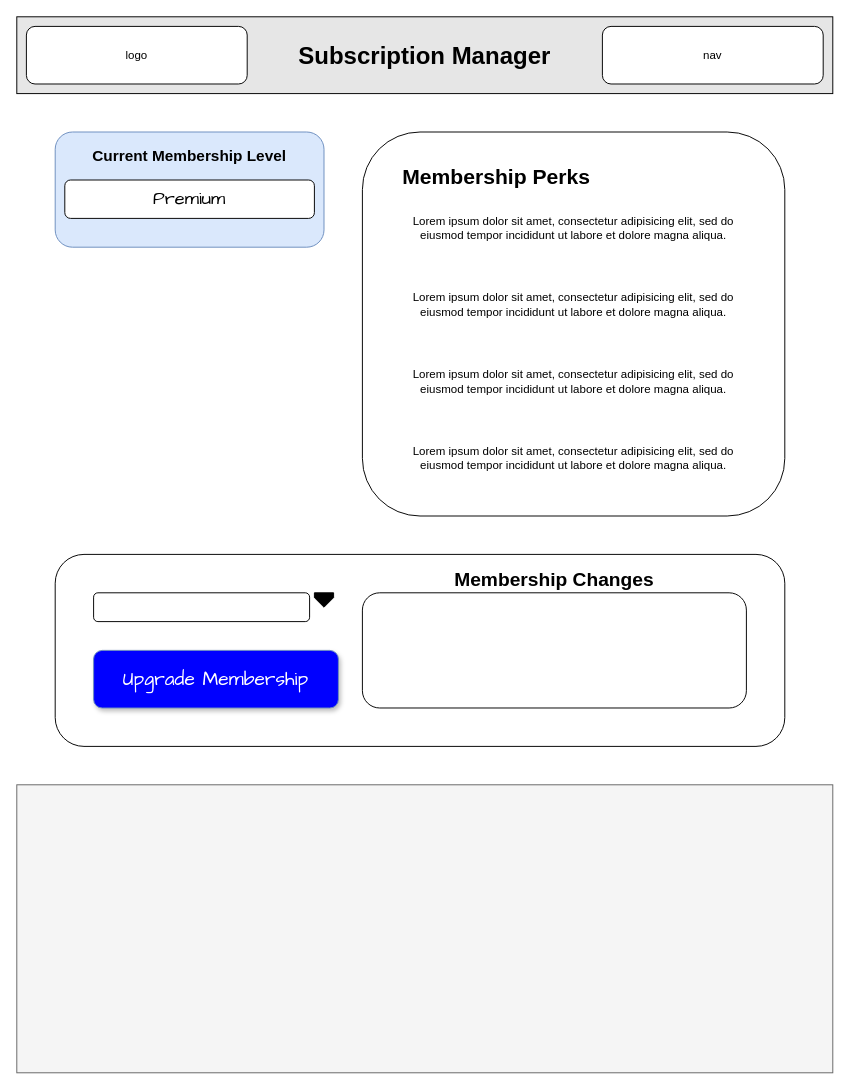
This 850x1090 diagram has some shape labels left out. The shapes that lost their labels are listed below. From the top down, each one's centre as x and y in pixels, then its label:
the point at 201,607: Choose Membership Level
the point at 553,650: "Perks added or lost with a membership change displayed here."
the point at 424,928: footer
